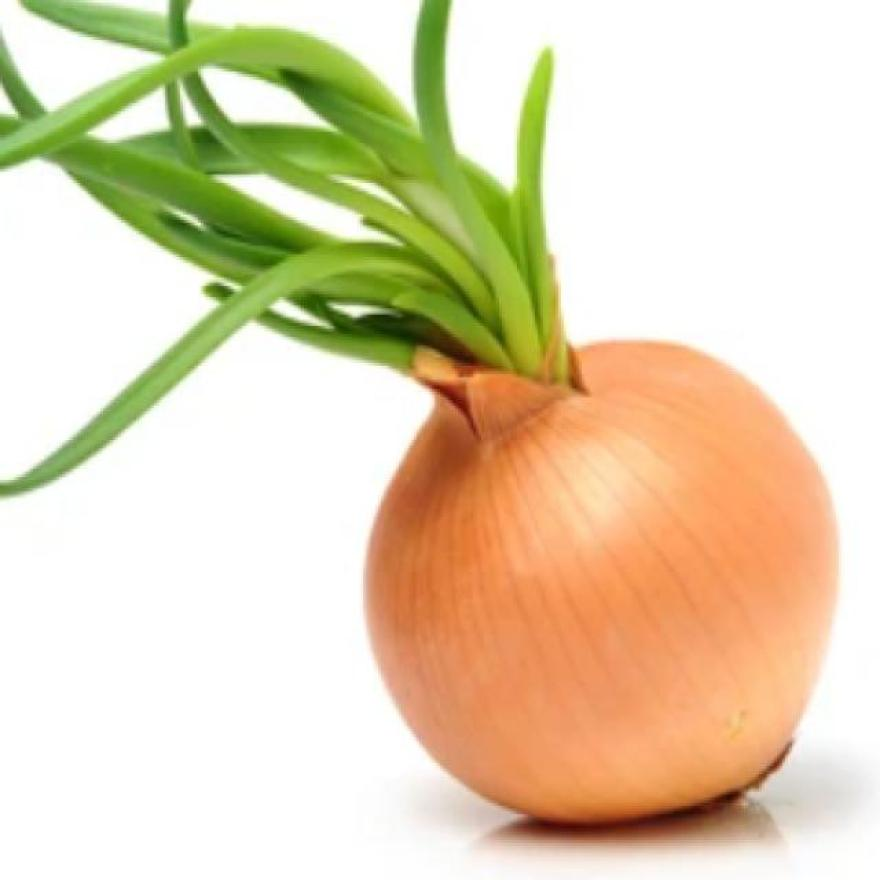Sprouted: (87, 106, 574, 406)
